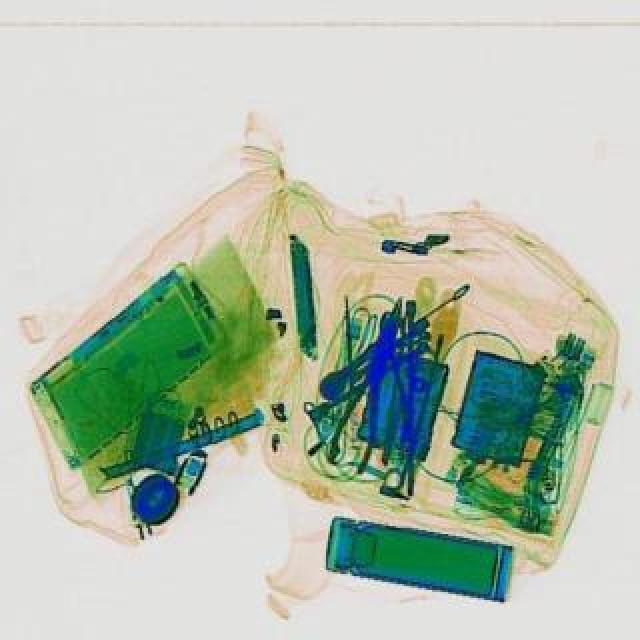wrench: (322, 290, 420, 472), (362, 308, 410, 440)
